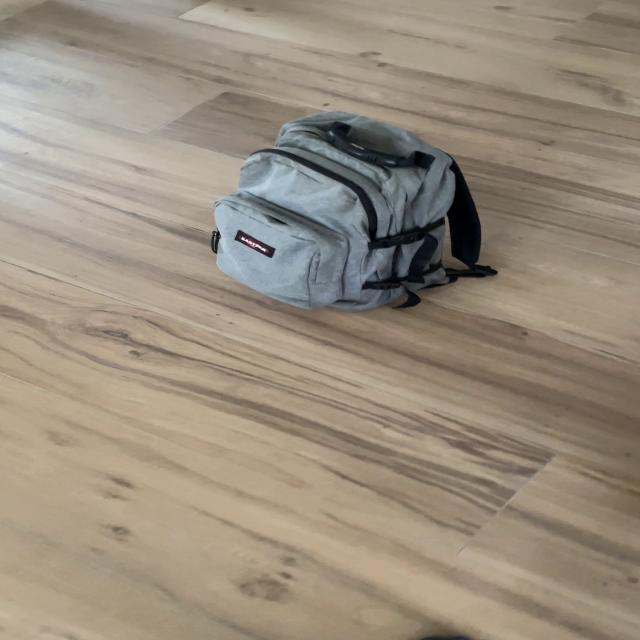backpack: (197, 104, 493, 316)
